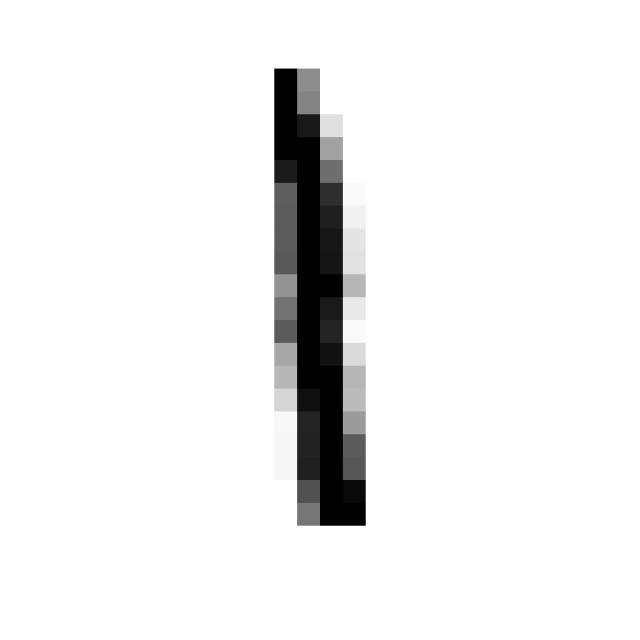1 -one-: (238, 48, 385, 548)
